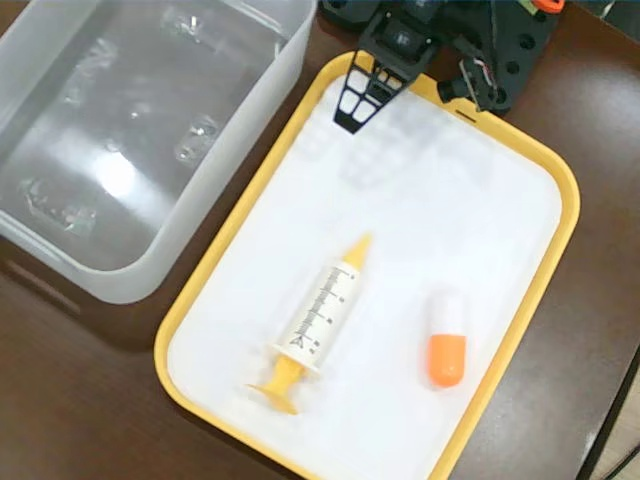pill: (422, 285, 468, 391)
syringe: (248, 226, 377, 417)
